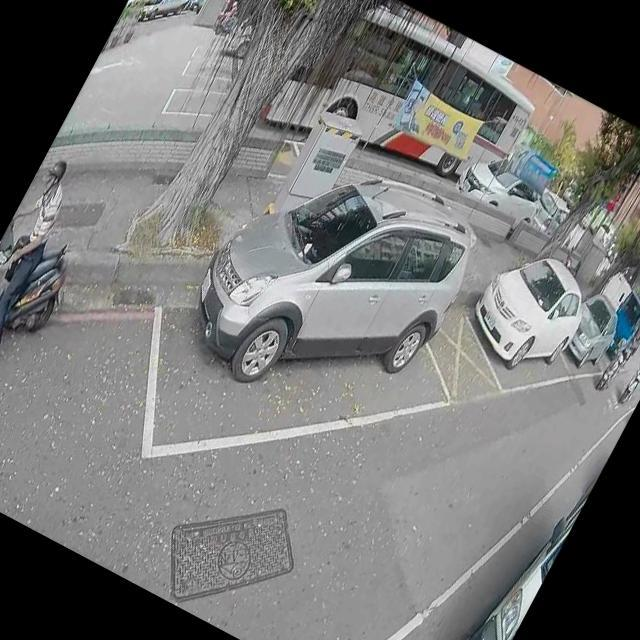person: (0, 149, 97, 381), (604, 329, 638, 378), (221, 0, 243, 24), (635, 356, 640, 381)
